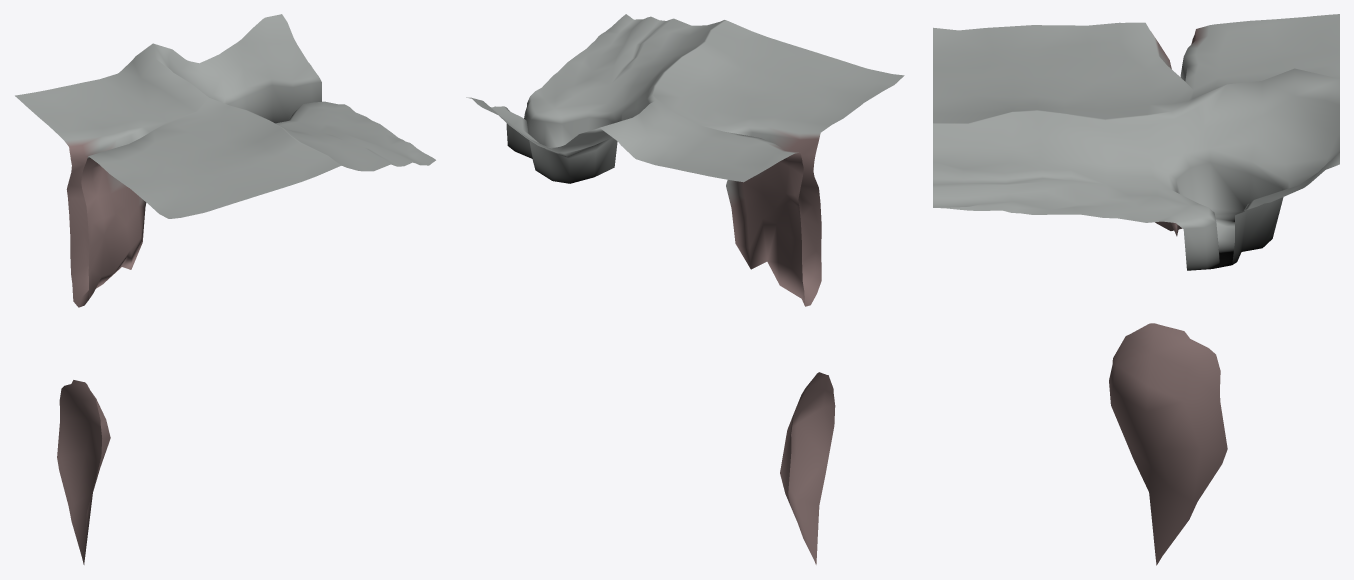
3 renders of one model, left to right at view 1: azimuth 30°, elevation 25°; view 2: azimuth 150°, elevation 25°; view 3: azimuth 270°, elevation 25°, orthographic. The views are drawn at different scales.
Visible parts, largest first — view 1: G:\FFXIV-MapTools\exports\u5f1\bg\ex4\04_uvs_u5\fld\u5f1\bgp (×5); view 2: G:\FFXIV-MapTools\exports\u5f1\bg\ex4\04_uvs_u5\fld\u5f1\bgp (×6); view 3: G:\FFXIV-MapTools\exports\u5f1\bg\ex4\04_uvs_u5\fld\u5f1\bgp (×5).
Part boxes in pixels (<box>): G:\FFXIV-MapTools\exports\u5f1\bg\ex4\04_uvs_u5\fld\u5f1\bgp (×5): <box>15,14,435,564</box>; G:\FFXIV-MapTools\exports\u5f1\bg\ex4\04_uvs_u5\fld\u5f1\bgp (×6): <box>466,14,904,564</box>; G:\FFXIV-MapTools\exports\u5f1\bg\ex4\04_uvs_u5\fld\u5f1\bgp (×5): <box>933,14,1339,565</box>.
Size of the model in its own units: 128 by 200 by 128.
